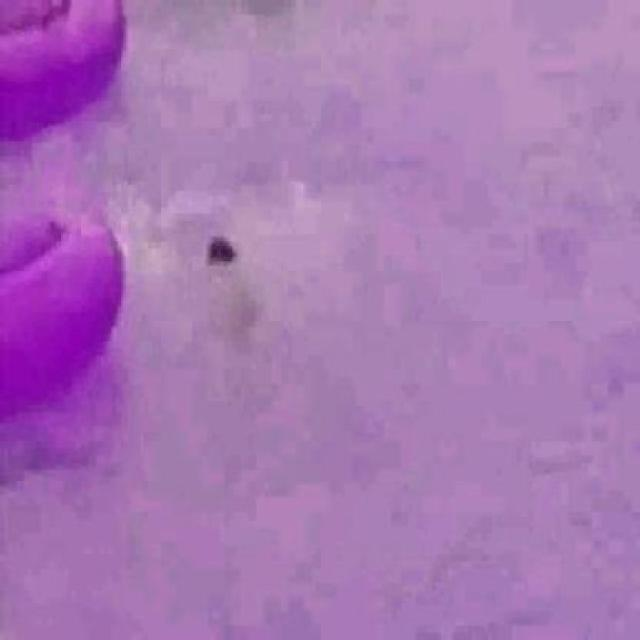drowning: (198, 230, 258, 373)
